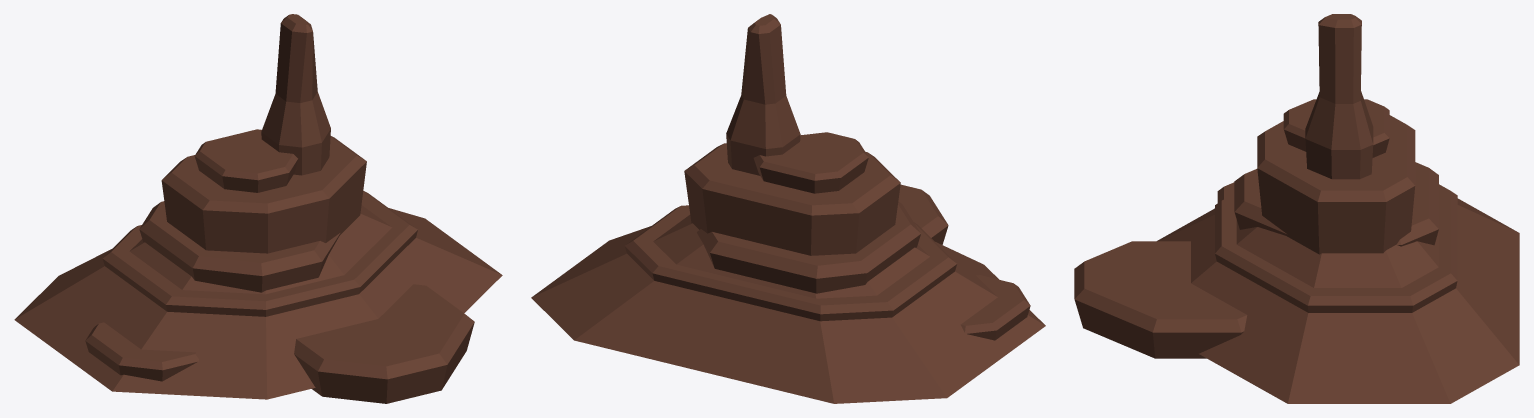
Rendered from Rock1.fbx.
The picture shows the model from 3 angles, left to right: view 1: azimuth 30°, elevation 25°; view 2: azimuth 150°, elevation 25°; view 3: azimuth 270°, elevation 25°; orthographic projection. The views are drawn at different scales.
Parts seen in each view (by area): view 1: Rock1; view 2: Rock1; view 3: Rock1.
Part boxes in pixels (bbox=[...]): Rock1: bbox=[14, 14, 502, 403]; Rock1: bbox=[531, 14, 1045, 403]; Rock1: bbox=[1074, 14, 1519, 403].
Bounding box in the file's own units: 4775 × 3170 × 4255.
